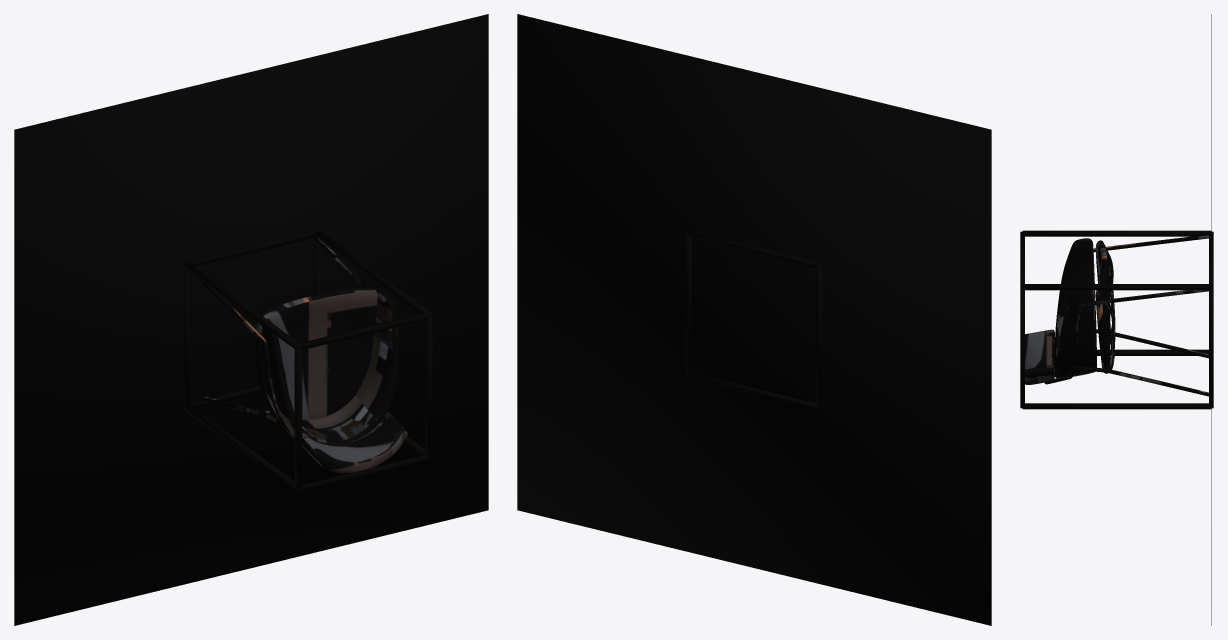
3 views of the same model, side by side, from view 1: azimuth 30°, elevation 25°; view 2: azimuth 150°, elevation 25°; view 3: azimuth 270°, elevation 25° (orthographic). The views are drawn at different scales.
Bounding box in the file's own units: 2 × 2 × 0.8404.
